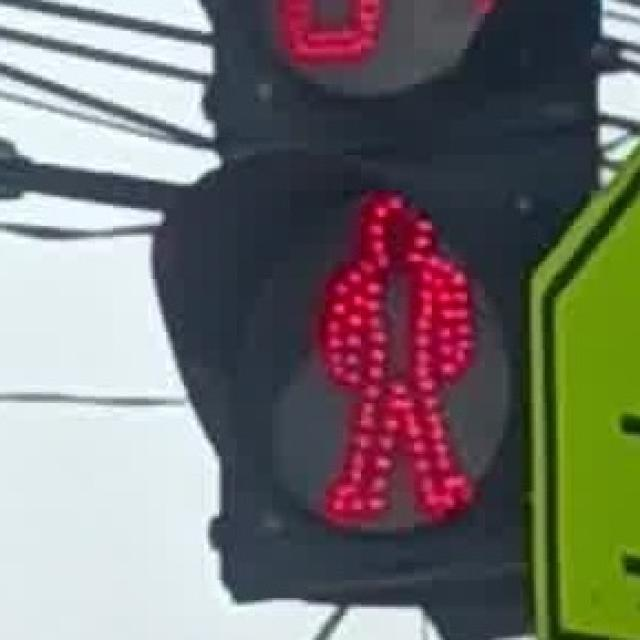red_light: (294, 170, 488, 542)
